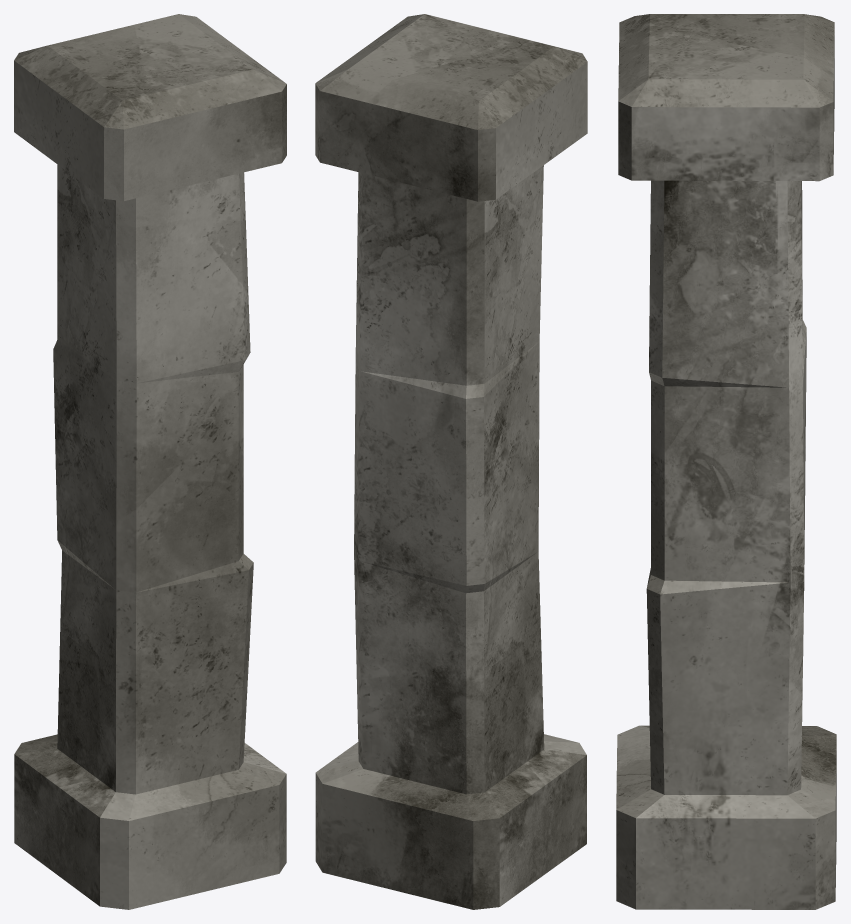
File: Pillar_Fbx.fbx
3 renders of one model, left to right at view 1: azimuth 30°, elevation 25°; view 2: azimuth 150°, elevation 25°; view 3: azimuth 270°, elevation 25°, orthographic. The views are drawn at different scales.
Parts seen in each view (by area): view 1: Pillar1; view 2: Pillar1; view 3: Pillar1.
Boxes of the visible parts, left/top/right/bottom form: Pillar1: left=14, top=14, right=286, bottom=909; Pillar1: left=315, top=14, right=587, bottom=909; Pillar1: left=616, top=14, right=836, bottom=909.
Bounding box in the file's own units: 1.96 × 8 × 1.96.
